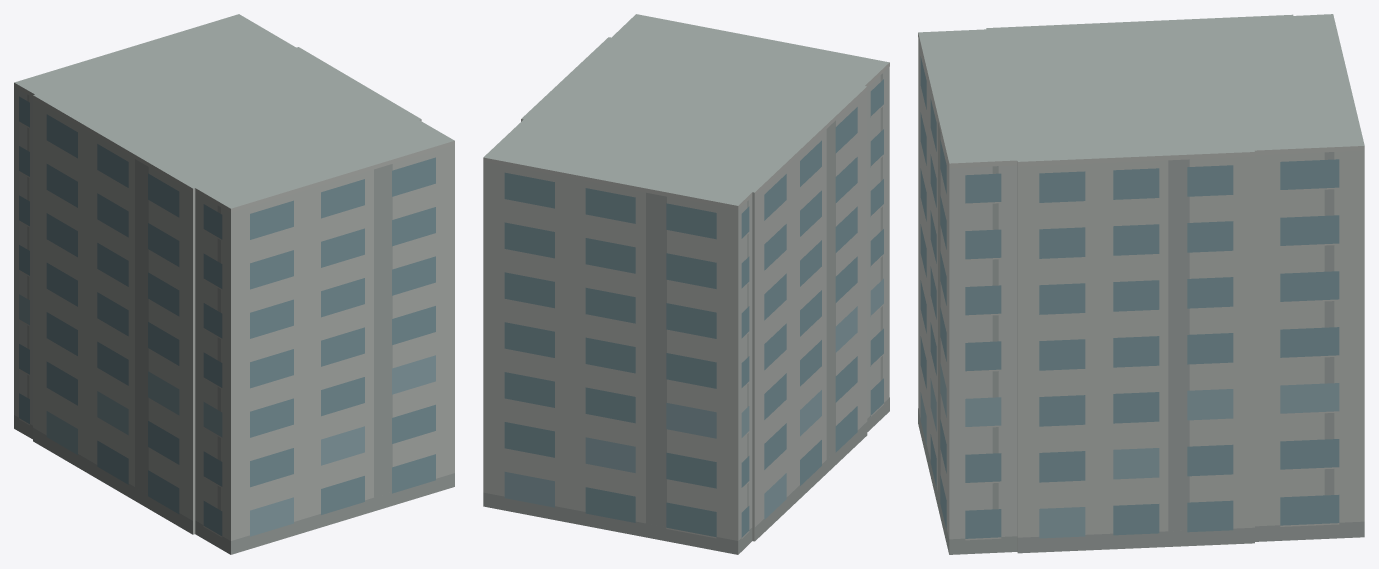
Rendered from survey-upis-32659367.glb.
The picture shows the model from 3 angles, left to right: view 1: azimuth 30°, elevation 25°; view 2: azimuth 150°, elevation 25°; view 3: azimuth 270°, elevation 25°; orthographic projection. The views are drawn at different scales.
Visible parts, largest first — view 1: survey-upis-32659367.tmp; view 2: survey-upis-32659367.tmp; view 3: survey-upis-32659367.tmp.
Part boxes in pixels (box(x1,y1,x2,y2)): survey-upis-32659367.tmp: box(14, 14, 454, 554); survey-upis-32659367.tmp: box(483, 14, 889, 554); survey-upis-32659367.tmp: box(918, 14, 1364, 554).
Size of the model in its own units: 16.4 by 20 by 20.69.
